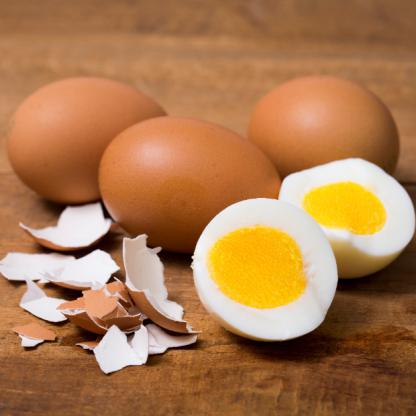egg: (93, 104, 298, 250), (6, 67, 188, 206), (254, 61, 402, 191)
